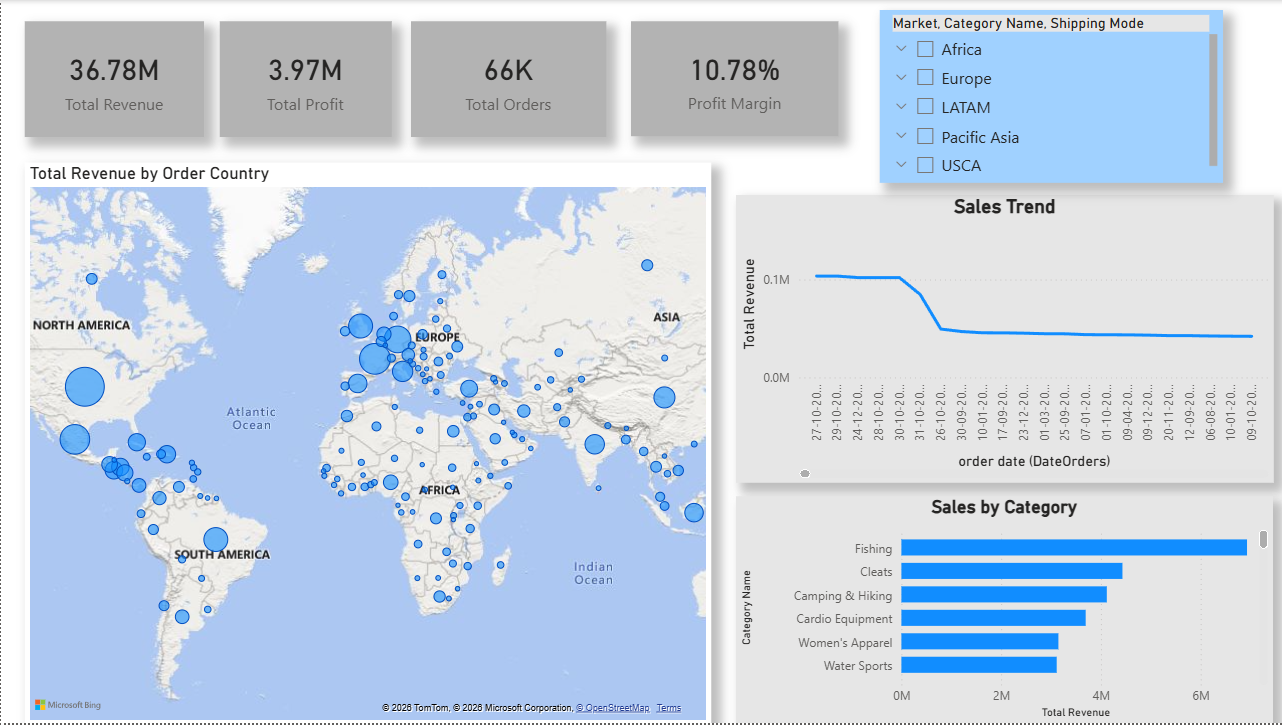

The page's visual inventory and layout, read from the dashboard file:
{"tool":"powerbi","page":{"name":"Overview","canvas":[1280,720],"ordinal":0},"visuals":[{"type":"card","fields":{"Values":["DataCoSupplyChainDataset.Total Revenue"]},"box":[23.3,21.7,178.6,114.9],"z":0},{"type":"card","fields":{"Values":["DataCoSupplyChainDataset.Total Profit"]},"box":[217.4,21.7,170.8,114.9],"z":1000},{"type":"card","fields":{"Values":["DataCoSupplyChainDataset.Total Orders"]},"box":[408.5,21.7,194.1,114.9],"z":2000},{"type":"card","fields":{"Values":["DataCoSupplyChainDataset.Profit Margin"]},"box":[627,21.1,206.5,114.4],"z":3000},{"type":"lineChart","title":"Sales Trend","fields":{"Category":["DataCoSupplyChainDataset.order date (DateOrders)"],"Y":["DataCoSupplyChainDataset.Total Revenue"]},"box":[731.1,193.6,534.9,286.6],"z":4000},{"type":"barChart","title":"Sales by Category","fields":{"Category":["DataCoSupplyChainDataset.Category Name"],"Y":["DataCoSupplyChainDataset.Total Revenue"]},"box":[731.5,493.9,534.2,226.7],"z":5000},{"type":"map","fields":{"Category":["DataCoSupplyChainDataset.Order Country"],"Size":["DataCoSupplyChainDataset.Total Revenue"]},"box":[23.3,161.5,683.3,559.1],"z":6000},{"type":"slicer","fields":{"Values":["DataCoSupplyChainDataset.Market","DataCoSupplyChainDataset.Category Name","DataCoSupplyChainDataset.Shipping Mode"]},"box":[875,10.2,341.3,171.9],"z":7000}]}

Visuals, with their boxes in screenshot pixels (x1, y1, x2, y2), scaled from the page's 1280x720 canvas onto the 1282x727 screenshot:
card - DataCoSupplyChainDataset.Total Revenue: (left=23, top=22, right=202, bottom=138)
card - DataCoSupplyChainDataset.Total Profit: (left=218, top=22, right=389, bottom=138)
card - DataCoSupplyChainDataset.Total Orders: (left=409, top=22, right=604, bottom=138)
card - DataCoSupplyChainDataset.Profit Margin: (left=628, top=21, right=835, bottom=137)
"Sales Trend" lineChart: (left=732, top=195, right=1268, bottom=485)
"Sales by Category" barChart: (left=733, top=499, right=1268, bottom=726)
map - DataCoSupplyChainDataset.Order Country x DataCoSupplyChainDataset.Total Revenue: (left=23, top=163, right=708, bottom=726)
slicer - DataCoSupplyChainDataset.Market x DataCoSupplyChainDataset.Category Name: (left=876, top=10, right=1218, bottom=184)
